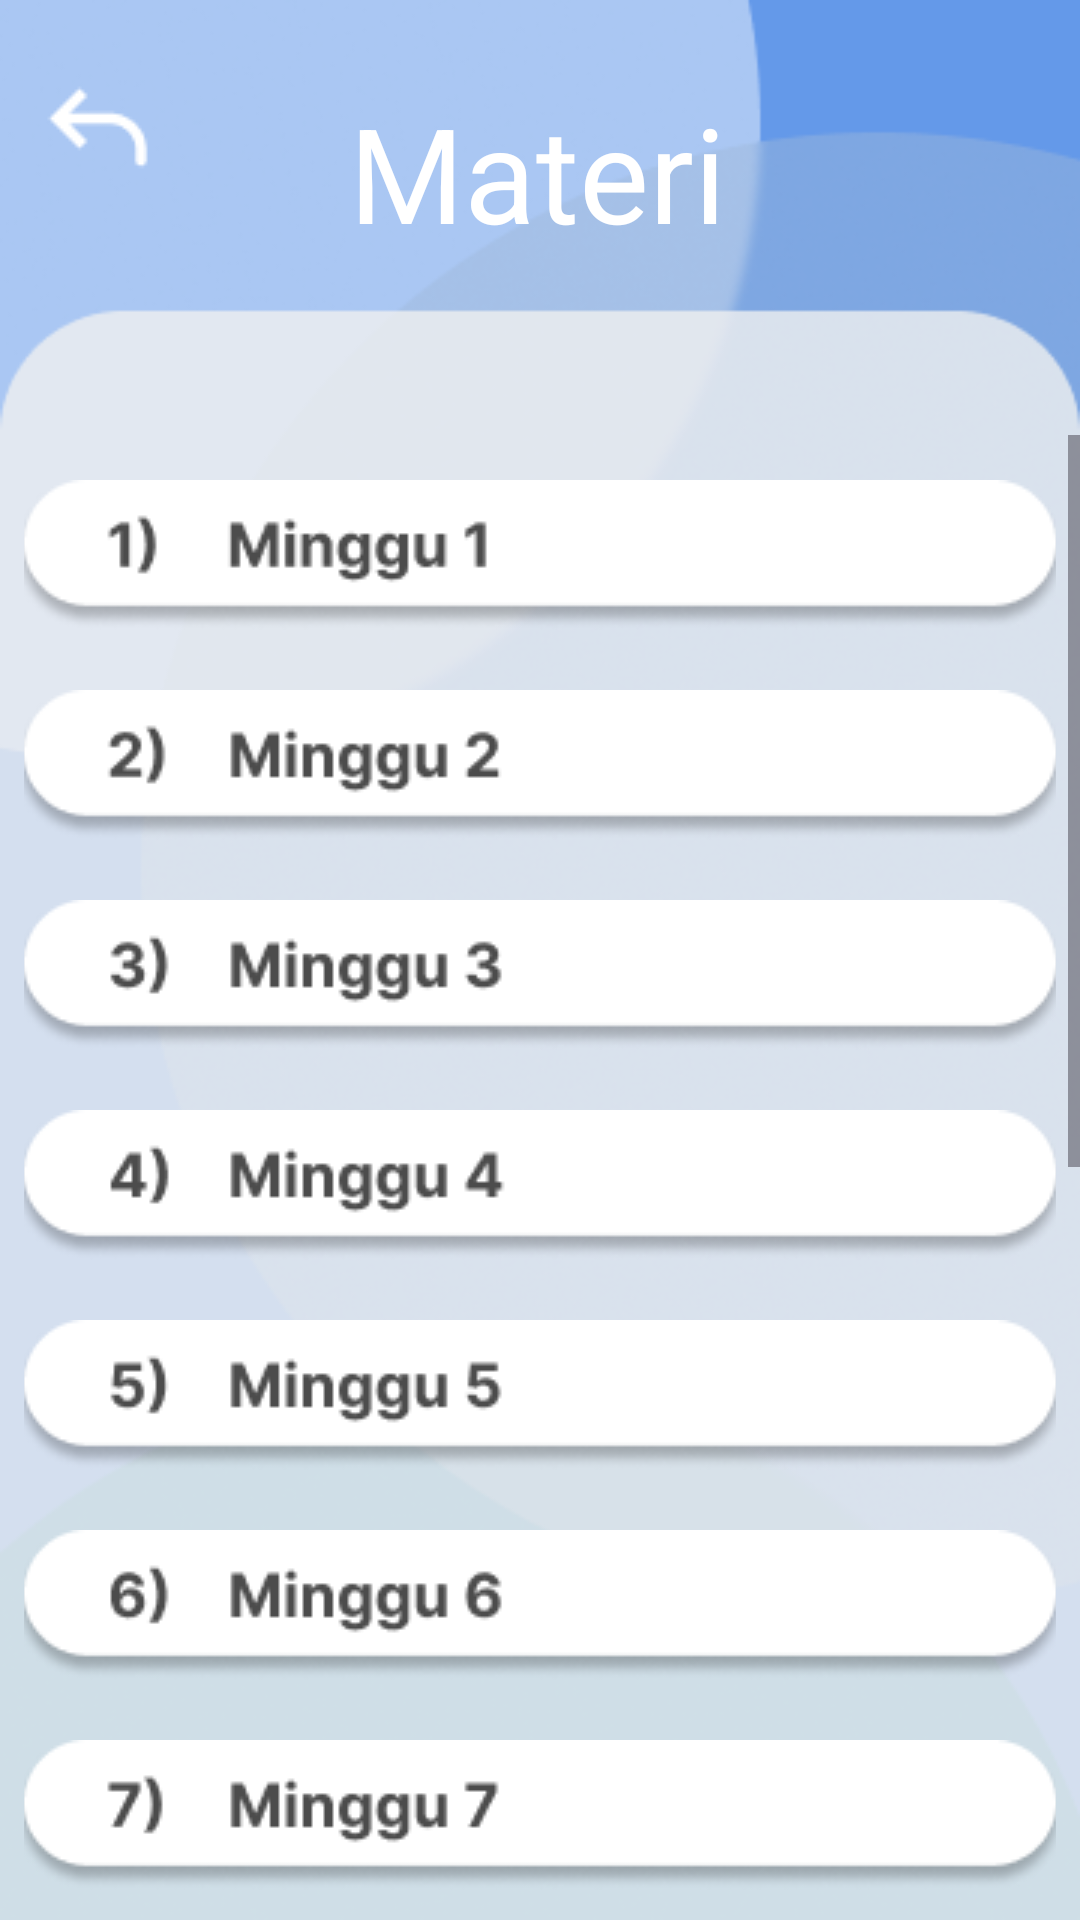

Icon click points for this 1080*1920 phone screenshot, format (x=x, y=y):
backbutton: (x=98, y=127)
